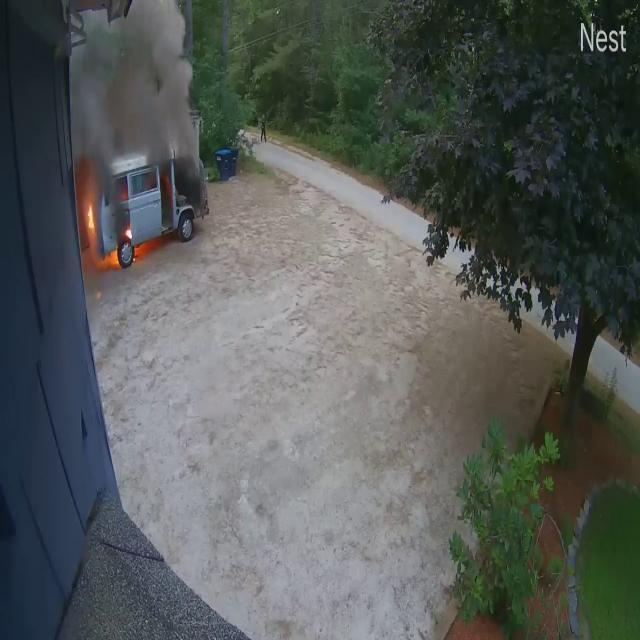Fire: (84, 190, 98, 243)
Smoke: (74, 2, 200, 185)
